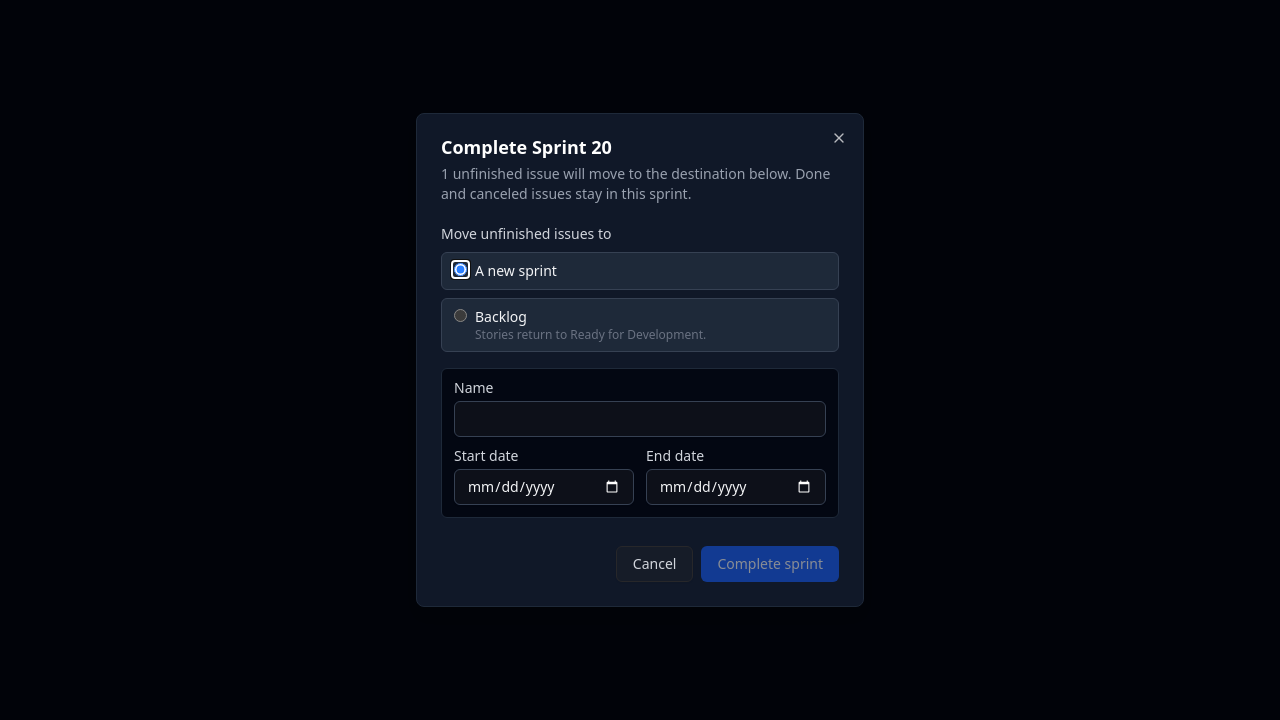
Scenario: CompleteSprintDialog › keeps Confirm disabled while the new sprint ends before it starts (QA)
The image size is (1280, 720).
In the field labelled "Name": (640, 419) [454, 401, 826, 437], type "Sprint 21"
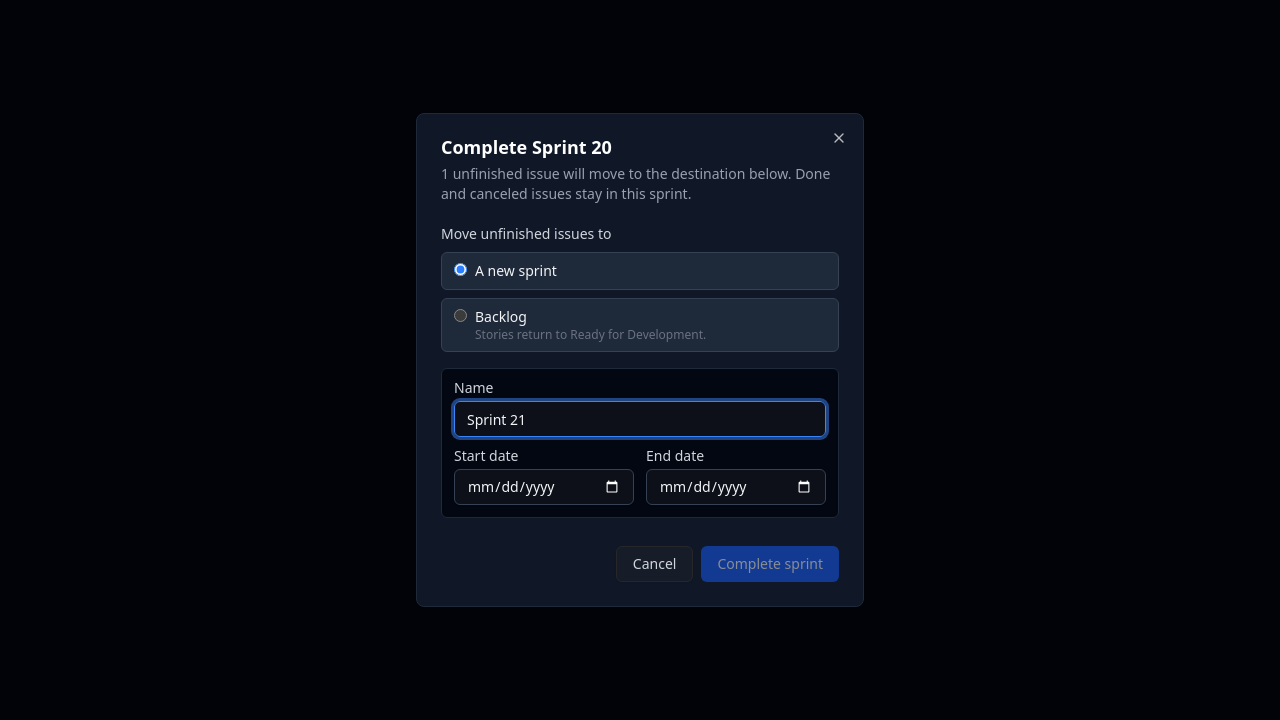
In the date field labelled "Start date": (544, 487) [454, 469, 634, 505], type "2024-03-15"
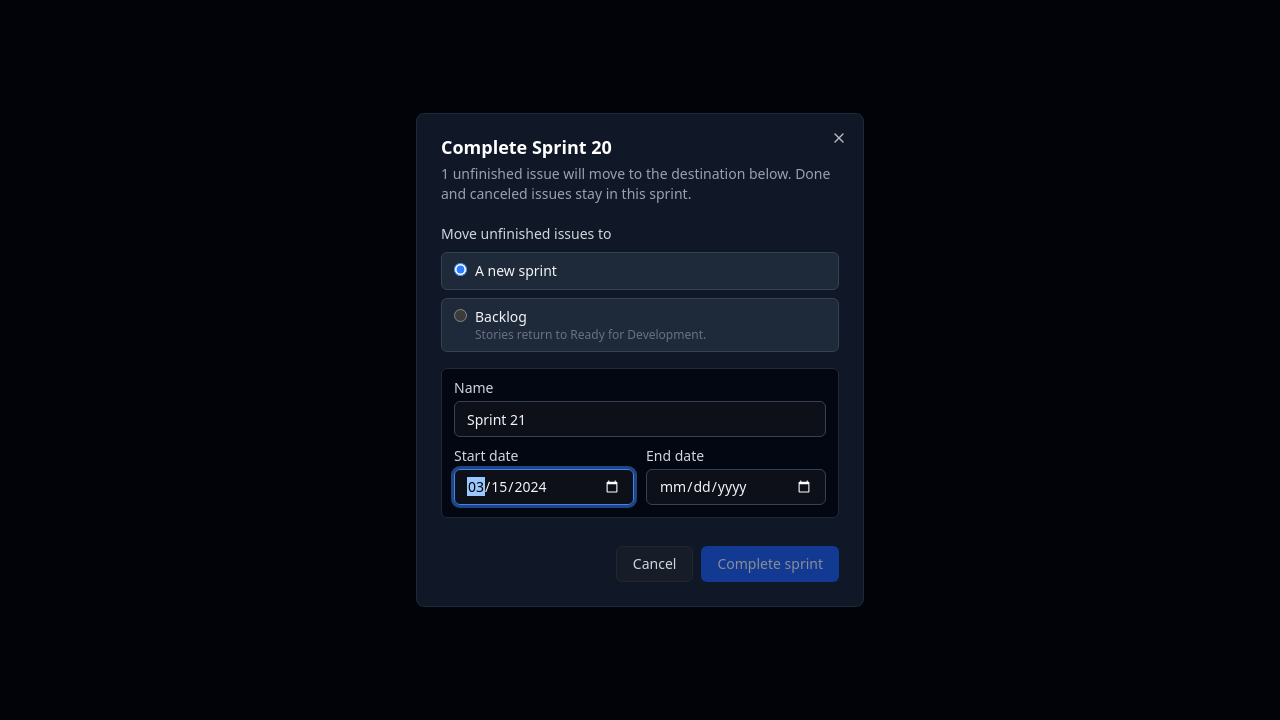
In the date field labelled "End date": (736, 487) [646, 469, 826, 505], type "2024-03-10"
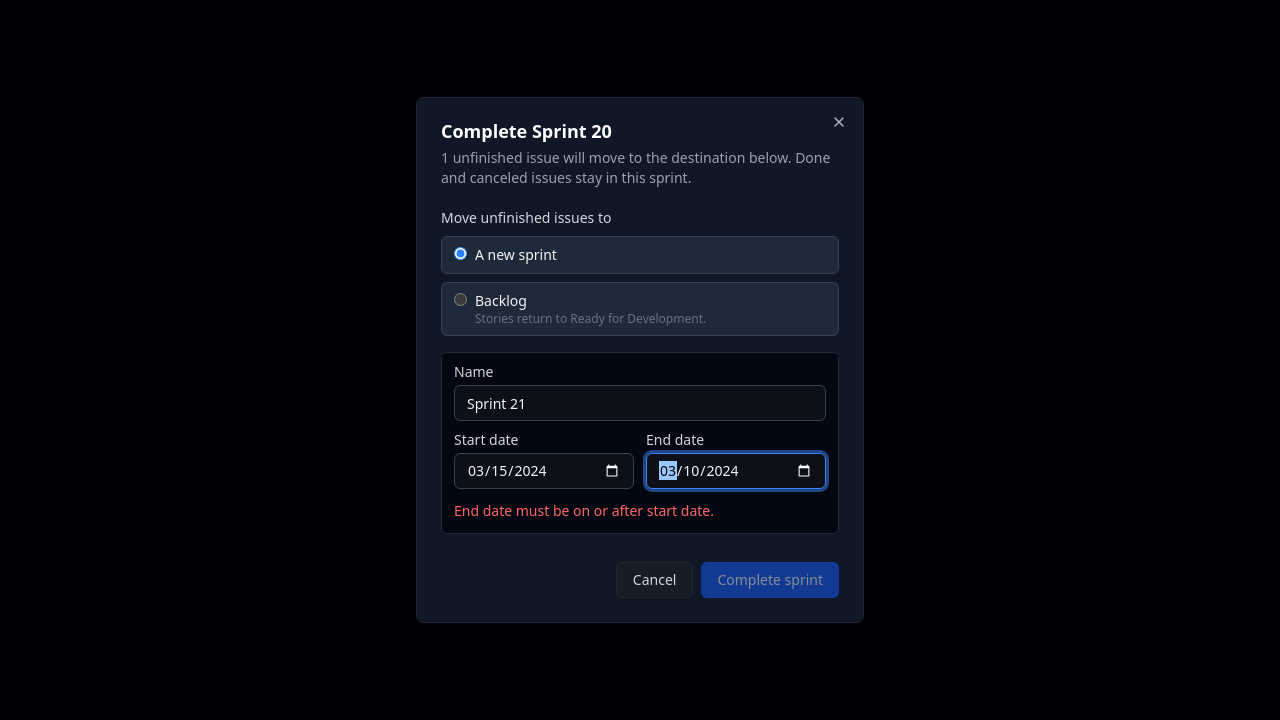
Check: the button "Complete sprint" is disabled, box [702, 562, 839, 598]
Check: the text "End date must be on or after start date." is shown, box [454, 501, 714, 520]
